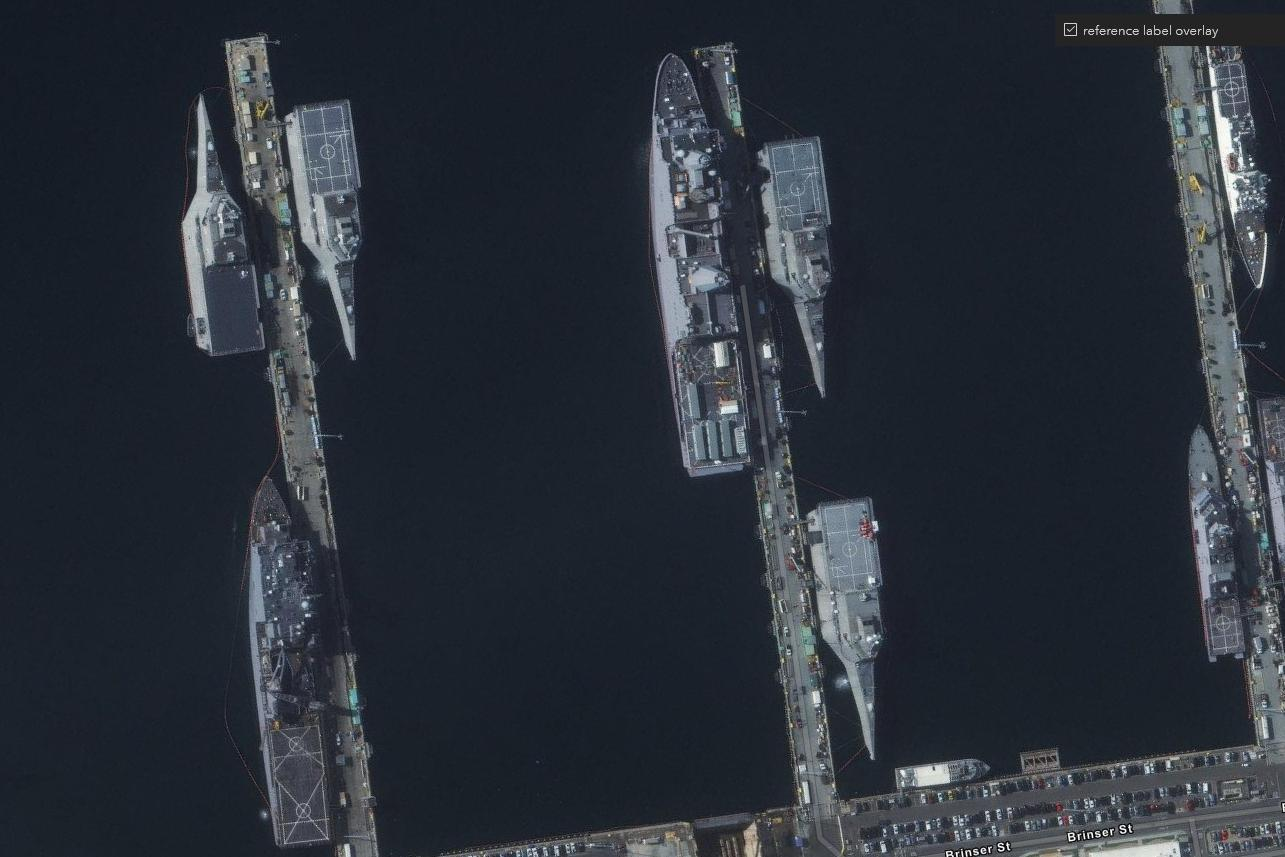amphiby: (646, 35, 759, 492), (241, 465, 346, 852)
littoral combat ship: (280, 89, 377, 368), (749, 118, 842, 408), (182, 84, 276, 368), (802, 485, 894, 774)
patrol: (1184, 416, 1251, 670)
